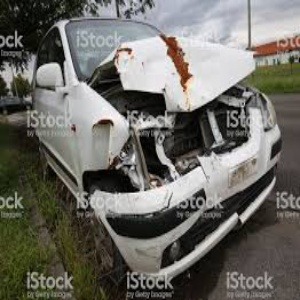bonnet: (111, 39, 259, 116)
